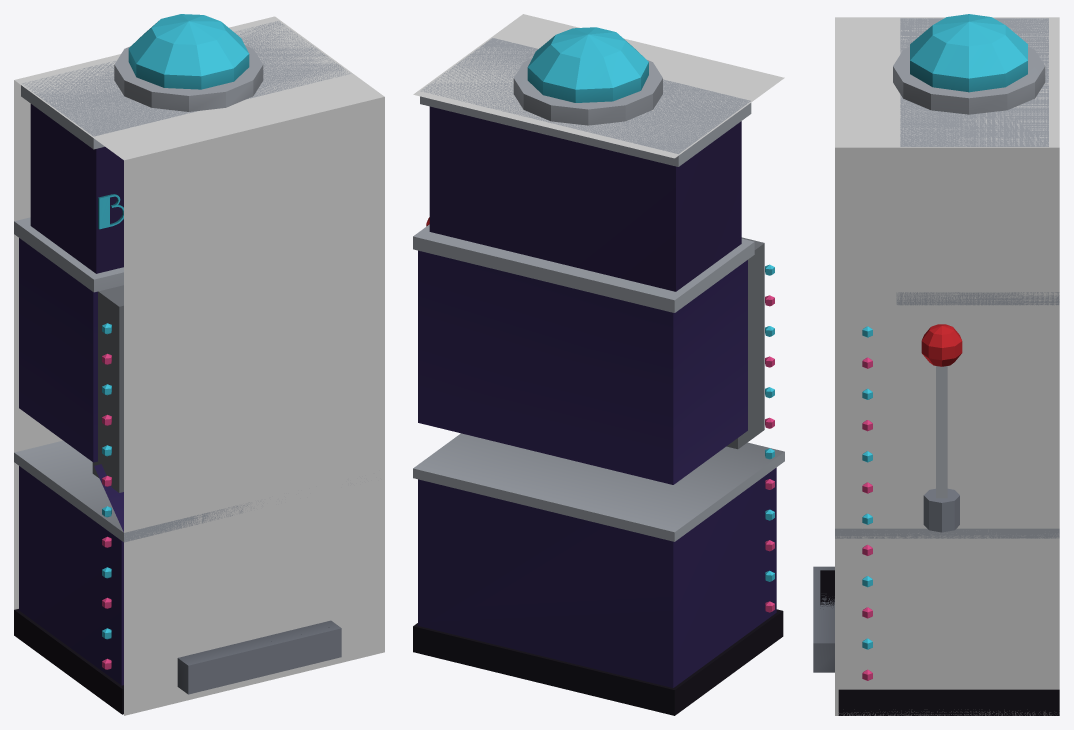
Rendered from slot_skull.glb.
3 renders of one model, left to right at view 1: azimuth 30°, elevation 25°; view 2: azimuth 150°, elevation 25°; view 3: azimuth 270°, elevation 25°, orthographic. The views are drawn at different scales.
Parts seen in each view (by area): view 1: COL_0, slot_skull; view 2: slot_skull, COL_0; view 3: COL_0, slot_skull, DYN_lever.
Part boxes in pixels (left/top/right/bottom): COL_0: left=14, top=16, right=384, bottom=715; slot_skull: left=14, top=14, right=350, bottom=714; slot_skull: left=413, top=27, right=784, bottom=715; COL_0: left=413, top=14, right=784, bottom=158; COL_0: left=835, top=17, right=1059, bottom=715; slot_skull: left=813, top=14, right=1059, bottom=715; DYN_lever: left=921, top=324, right=962, bottom=532.
Bounding box in the file's own units: 2 × 3.83 × 1.36.
